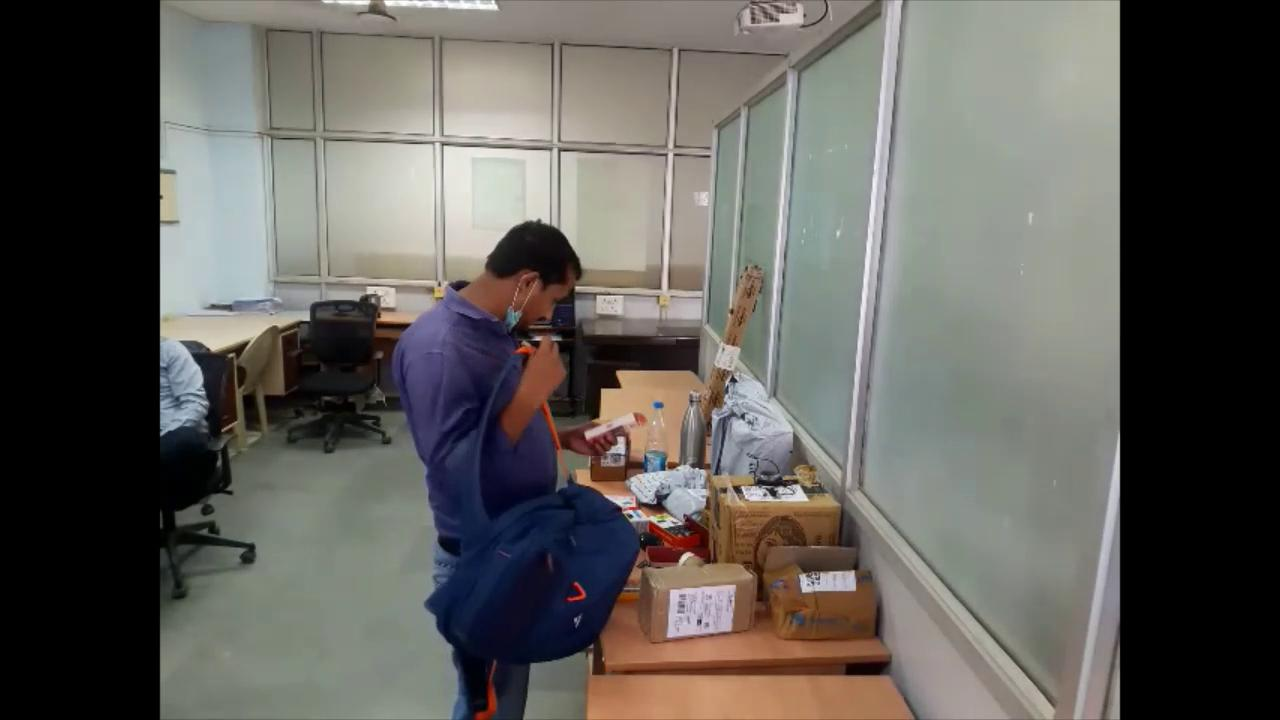Normal: (386, 214, 649, 720)
